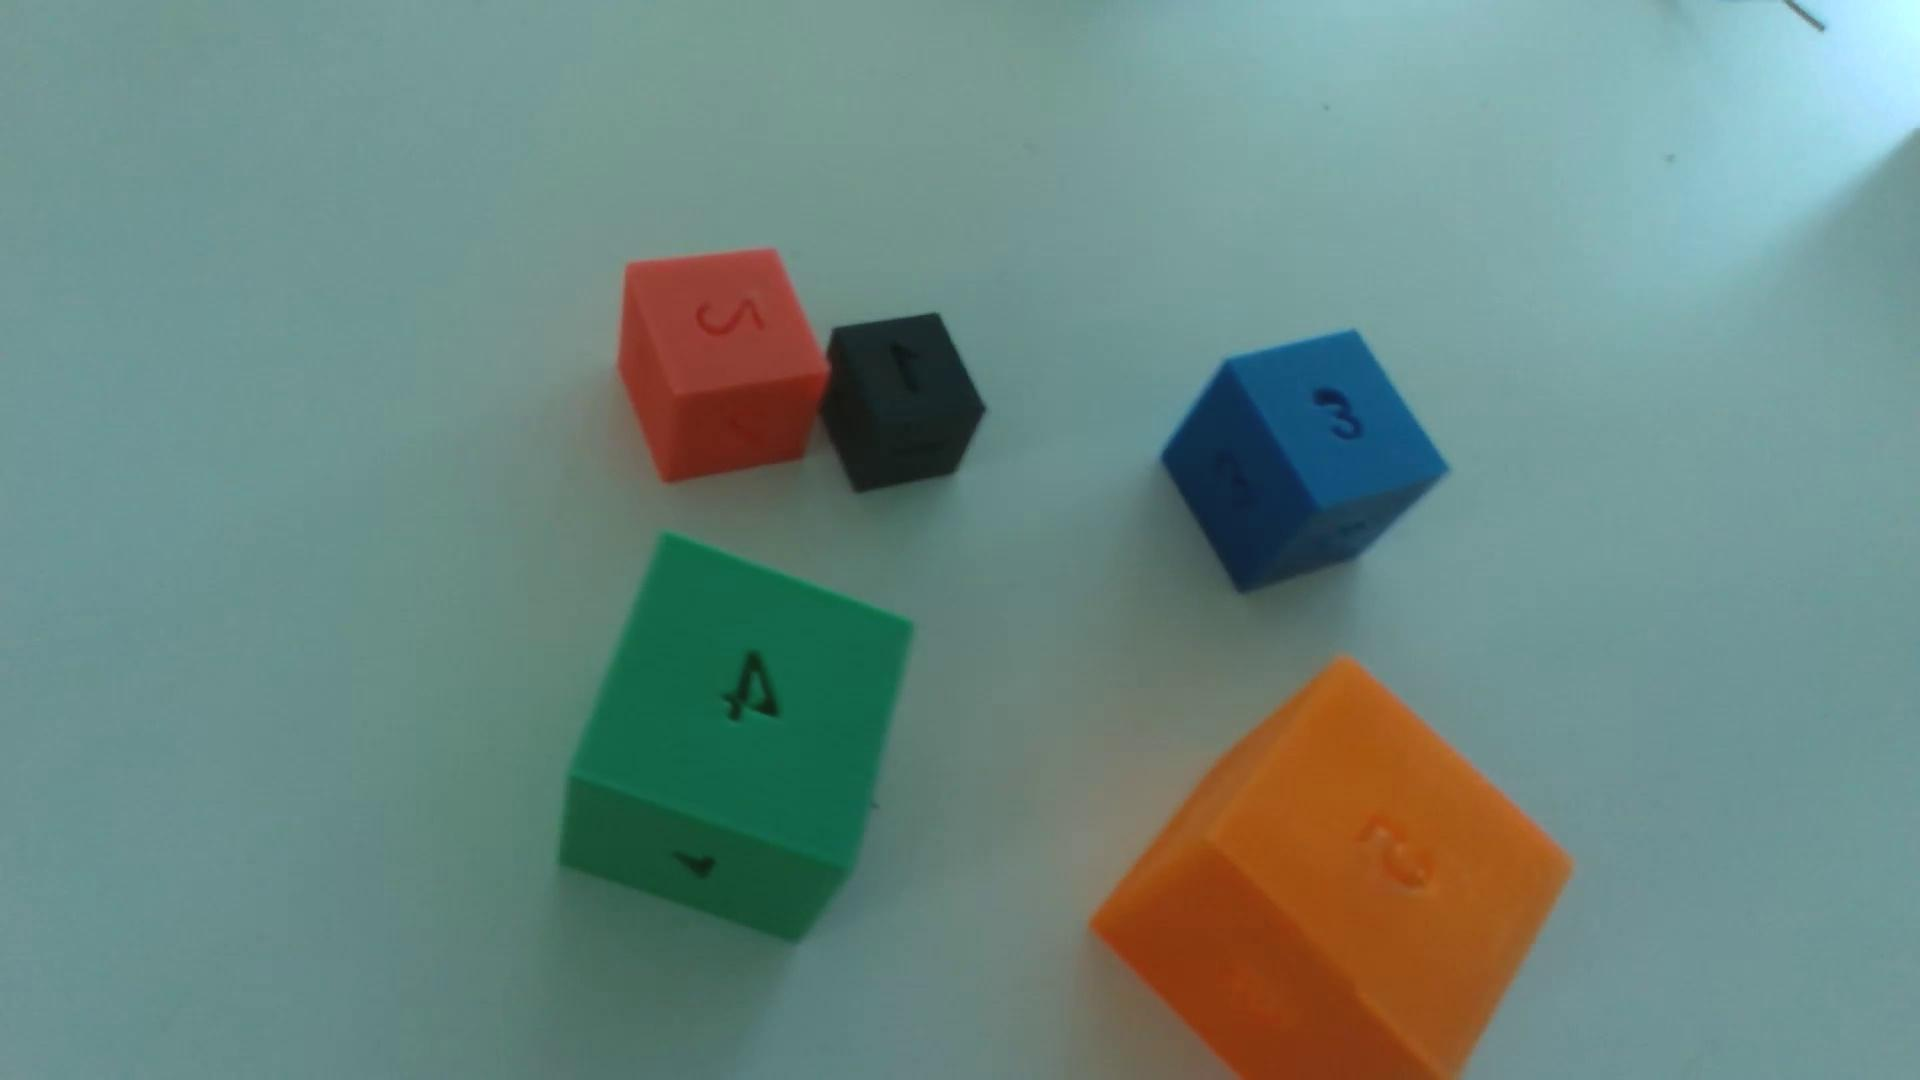black: (822, 314, 986, 495)
blue: (1163, 331, 1448, 592)
green: (560, 535, 913, 940)
orange: (1092, 661, 1571, 1080)
red: (618, 251, 828, 483)
